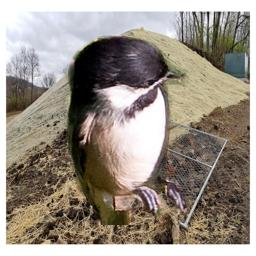Swallow: (63, 30, 194, 225)
